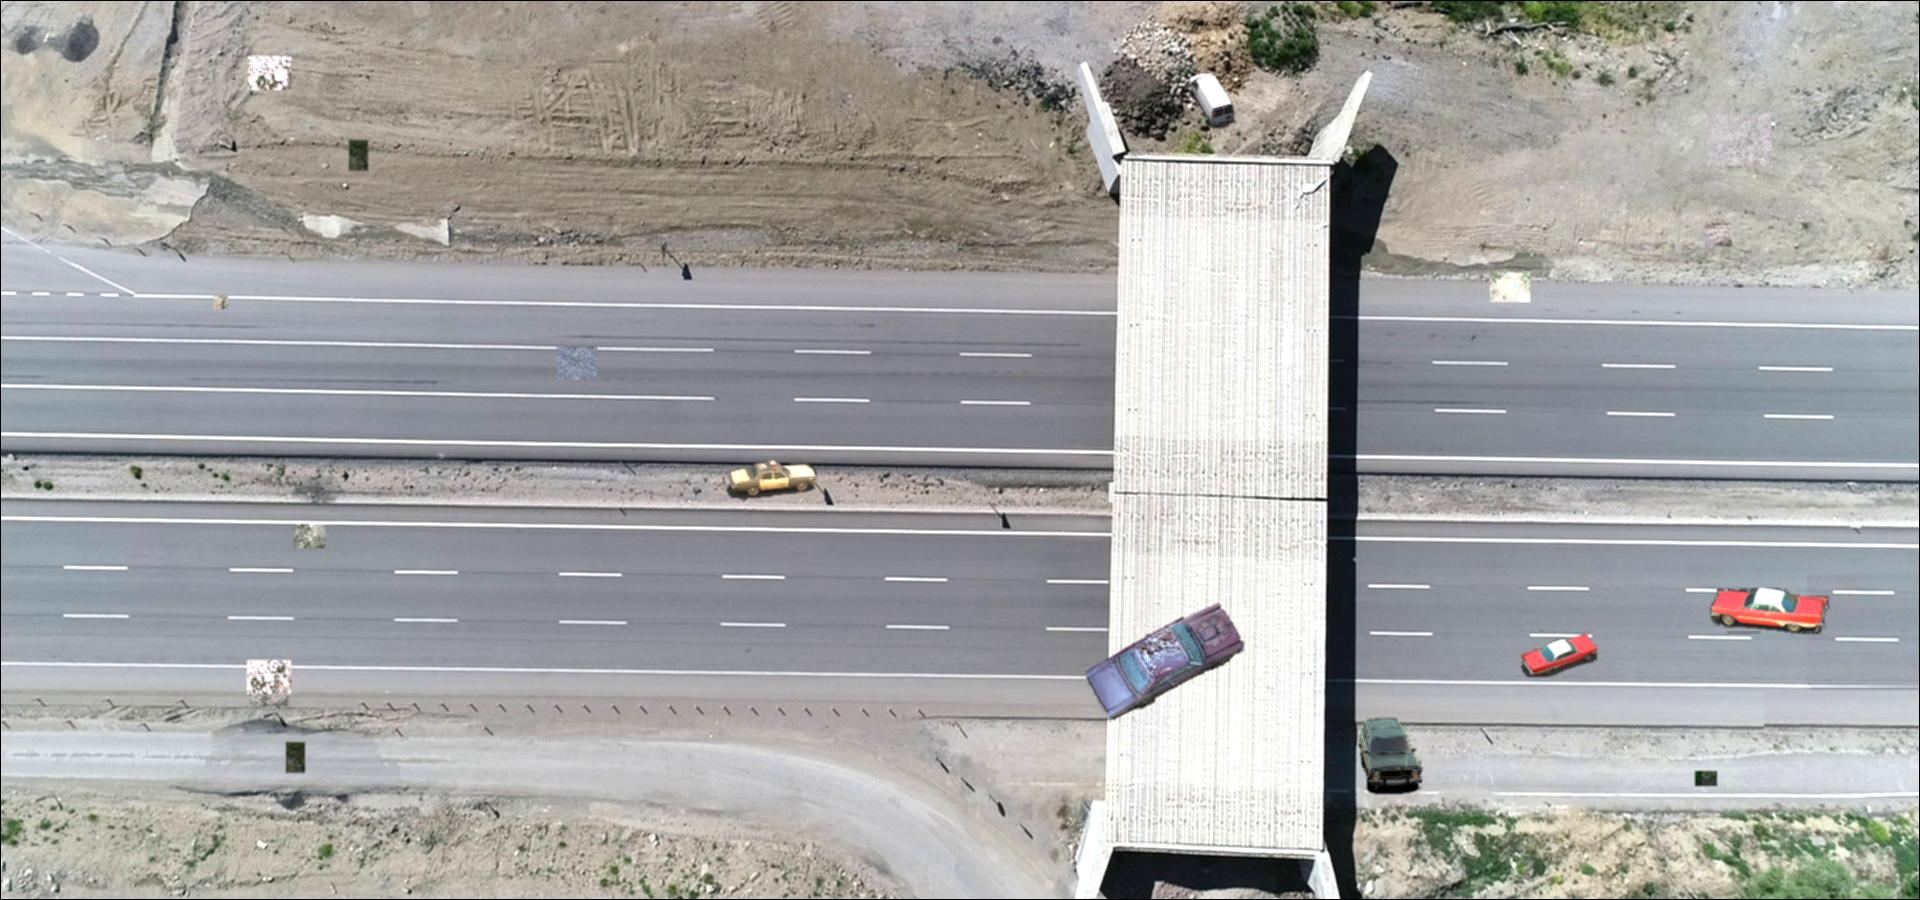arac: (1086, 598, 1245, 721), (1709, 588, 1832, 634), (1356, 716, 1423, 795), (725, 459, 817, 500), (1521, 634, 1597, 677), (1187, 71, 1236, 129)
